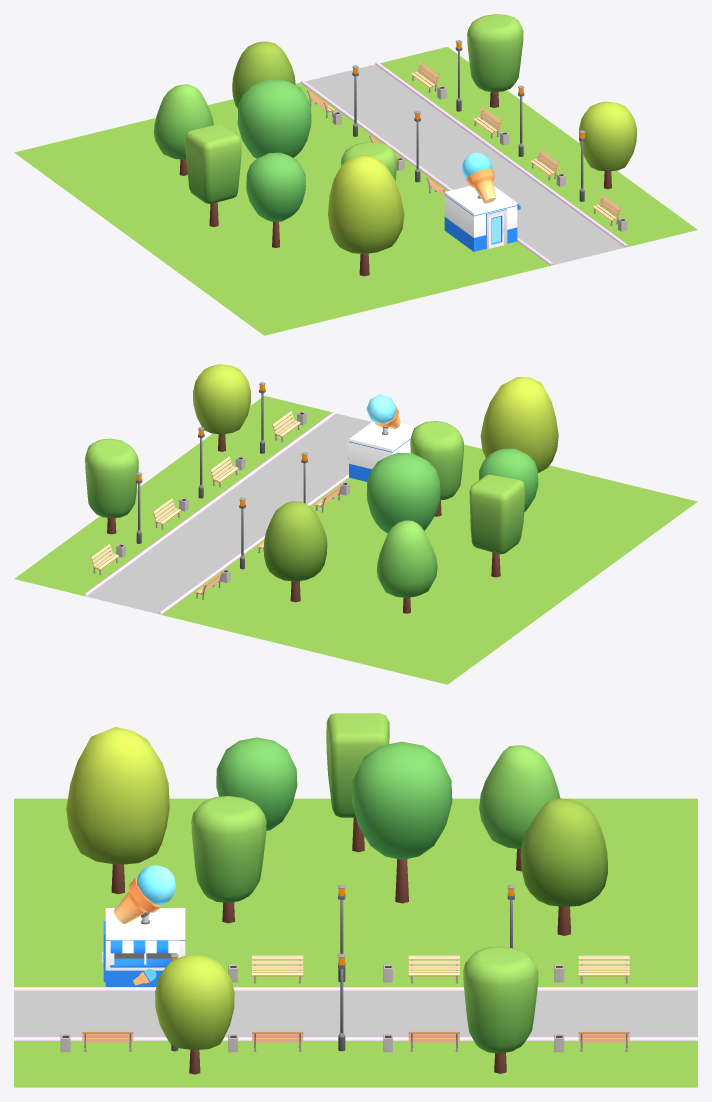
Rendered from Entertainment_Park_01.glb.
3 views of the same model, one above another, from view 1: azimuth 30°, elevation 25°; view 2: azimuth 150°, elevation 25°; view 3: azimuth 270°, elevation 25° (orthographic). The views are drawn at different scales.
Parts seen in each view (by area): view 1: Entertainment_Park_01; view 2: Entertainment_Park_01; view 3: Entertainment_Park_01.
Boxes of the visible parts, x1,y1,x2,y2 form: Entertainment_Park_01: (14,14,697,335); Entertainment_Park_01: (14,364,697,684); Entertainment_Park_01: (14,713,697,1087).
Bounding box in the file's own units: 30.09 × 7.89 × 30.
Materials: 2 (2 with a texture image).
